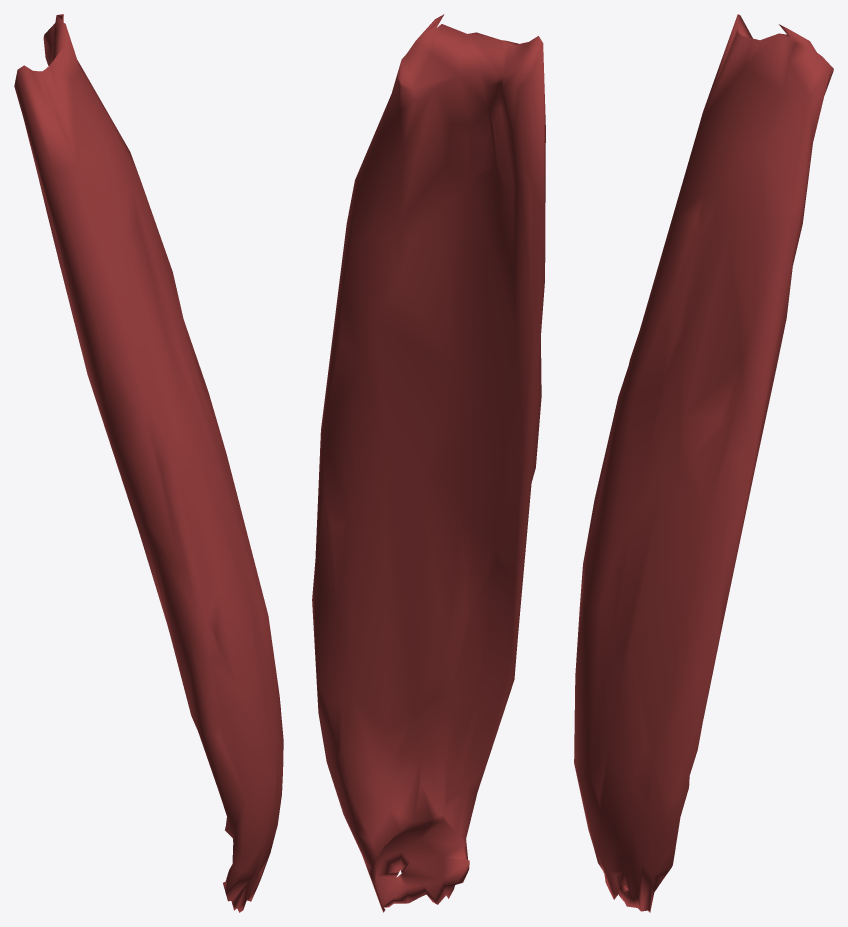
File: abductor-digiti-minimi-of-hand-r.glb
3 views of the same model, side by side, from view 1: azimuth 30°, elevation 25°; view 2: azimuth 150°, elevation 25°; view 3: azimuth 270°, elevation 25° (orthographic). The views are drawn at different scales.
Visible parts, largest first — view 1: Abductor digiti minimi of hand.r; view 2: Abductor digiti minimi of hand.r; view 3: Abductor digiti minimi of hand.r.
Part boxes in pixels (x1,y1,x2,y2): Abductor digiti minimi of hand.r: [14, 14, 283, 912]; Abductor digiti minimi of hand.r: [312, 14, 545, 912]; Abductor digiti minimi of hand.r: [574, 14, 833, 912].
Size of the model in its own units: 0.0182 by 0.067 by 0.019.
